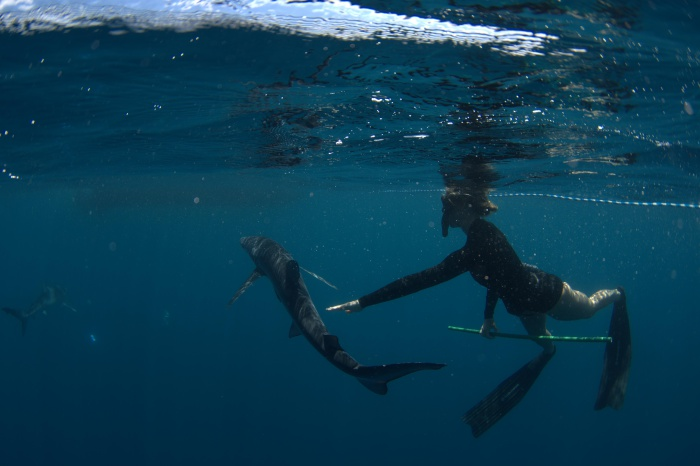Azul: (129, 187, 556, 352)
